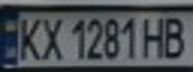1: (118, 15, 142, 60), (66, 15, 87, 61)
2: (84, 15, 106, 61)
8: (103, 15, 124, 60)
B: (157, 13, 193, 60)
H: (139, 13, 172, 60)
K: (15, 14, 45, 62)
X: (39, 15, 66, 61)
